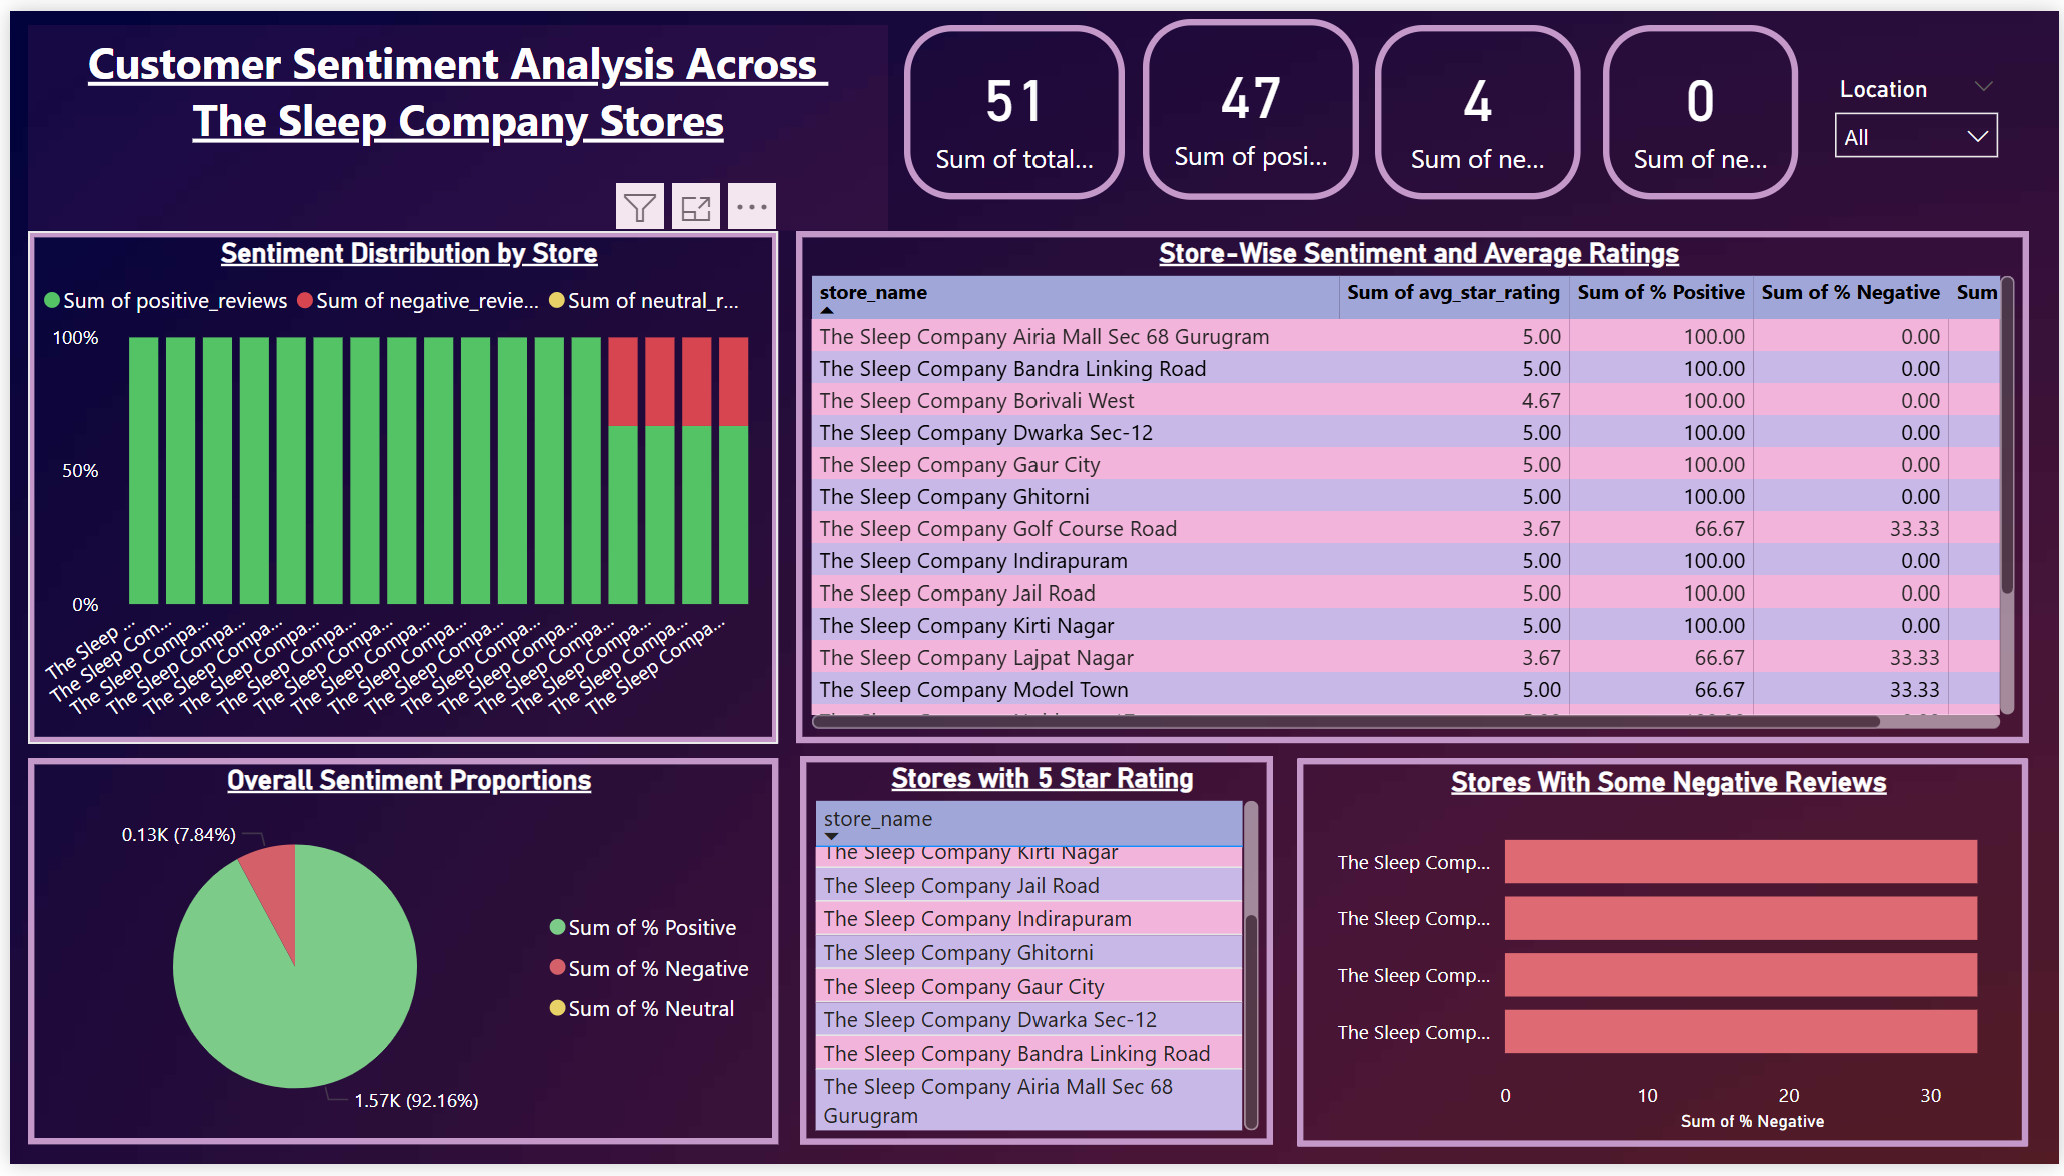

The page's visual inventory and layout, read from the dashboard file:
{"tool":"powerbi","page":{"name":"Page 1","canvas":[1280,720],"ordinal":0},"visuals":[{"type":"hundredPercentStackedColumnChart","title":"Sentiment Distribution by Store","fields":{"Category":["store_sentiment_metrics.store_name"],"Y":["Sum(store_sentiment_metrics.positive_reviews)","Sum(store_sentiment_metrics.negative_reviews)","Sum(store_sentiment_metrics.neutral_reviews)"]},"box":[11.7,137.7,468.8,319.5],"z":0},{"type":"tableEx","title":"Store-Wise Sentiment and Average Ratings","fields":{"Values":["store_sentiment_metrics.store_name","Sum(store_sentiment_metrics.avg_star_rating)","Sum(store_sentiment_metrics.% Positive)","Sum(store_sentiment_metrics.% Negative)","Sum(store_sentiment_metrics.% Neutral)"]},"box":[491.4,137.6,770,319.6],"z":1000},{"type":"pieChart","title":"Overall Sentiment Proportions","fields":{"Y":["Sum(store_sentiment_metrics.% Positive)","Sum(store_sentiment_metrics.% Negative)","Sum(store_sentiment_metrics.% Neutral)"]},"box":[11.7,466.2,468.8,241.6],"z":2000},{"type":"slicer","fields":{"Values":["store_sentiment_metrics.store_name"]},"box":[1129.9,35.1,122.1,83.1],"z":3000},{"type":"clusteredBarChart","title":"Stores With Some Negative Reviews","fields":{"Category":["store_sentiment_metrics.store_name"],"Y":["Sum(store_sentiment_metrics.% Negative)"]},"box":[803.9,466.2,457.1,242.9],"z":4000},{"type":"tableEx","title":"Stores with 5 Star Rating","fields":{"Values":["store_sentiment_metrics.store_name"]},"box":[493.5,464.9,294.8,242.9],"z":5000},{"type":"textbox","box":[11.7,9.1,537.7,128.6],"z":6000},{"type":"card","fields":{"Values":["Sum(store_sentiment_metrics.total_reviews)"]},"box":[558.4,9.1,137.7,109.1],"z":7000},{"type":"card","fields":{"Values":["Sum(store_sentiment_metrics.neutral_reviews)"]},"box":[994.8,9.1,122.1,109.1],"z":8000},{"type":"card","fields":{"Values":["Sum(store_sentiment_metrics.negative_reviews)"]},"box":[851.9,9.1,128.6,109.1],"z":9000},{"type":"card","fields":{"Values":["Sum(store_sentiment_metrics.positive_reviews)"]},"box":[707.8,5.2,135.1,113],"z":10000}]}

Visuals, with their boxes in screenshot pixels (x1, y1, x2, y2), scaled from the page's 1280x720 canvas onto the 2064x1176 screenshot:
"Sentiment Distribution by Store" hundredPercentStackedColumnChart: [19, 225, 775, 747]
"Store-Wise Sentiment and Average Ratings" tableEx: [792, 225, 2034, 747]
"Overall Sentiment Proportions" pieChart: [19, 761, 775, 1156]
slicer - store_sentiment_metrics.store_name: [1822, 57, 2019, 193]
"Stores With Some Negative Reviews" clusteredBarChart: [1296, 761, 2033, 1158]
"Stores with 5 Star Rating" tableEx: [796, 759, 1271, 1156]
textbox: [19, 15, 886, 225]
card - Sum(store_sentiment_metrics.total_reviews): [900, 15, 1122, 193]
card - Sum(store_sentiment_metrics.neutral_reviews): [1604, 15, 1801, 193]
card - Sum(store_sentiment_metrics.negative_reviews): [1374, 15, 1581, 193]
card - Sum(store_sentiment_metrics.positive_reviews): [1141, 8, 1359, 193]
